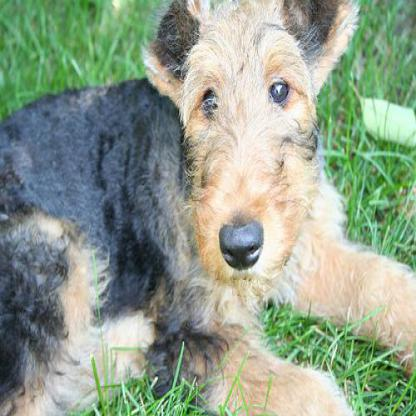dog: (55, 0, 395, 411)
